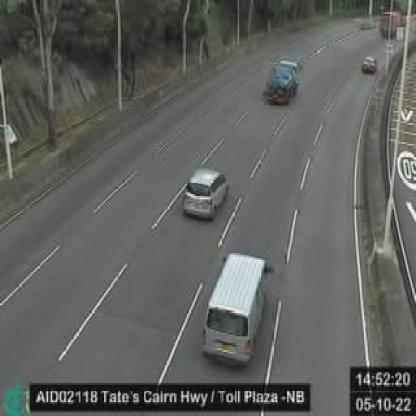Car: (203, 251, 268, 366), (183, 170, 229, 217), (360, 56, 376, 74)
Truck: (263, 59, 300, 104)
